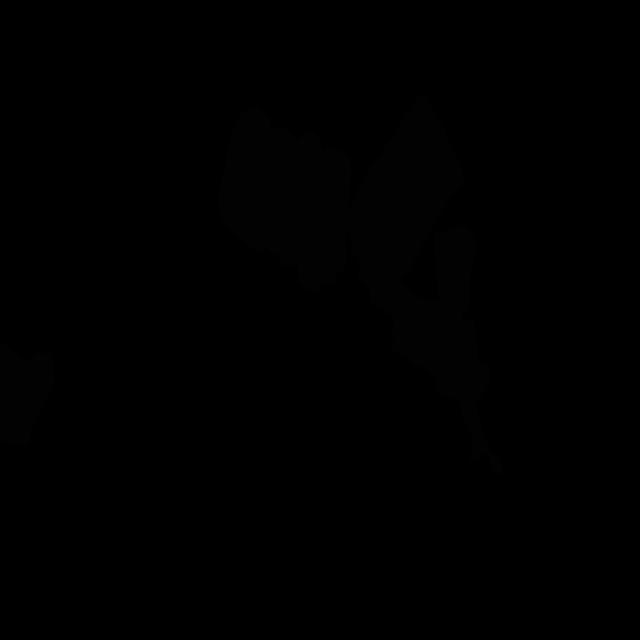cardboard: (368, 224, 504, 475), (218, 106, 351, 292), (345, 94, 465, 294), (0, 340, 55, 446)
